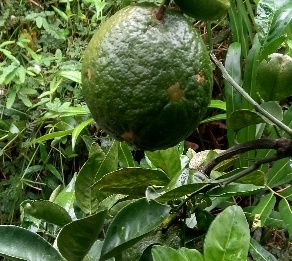Cam: (79, 6, 213, 152)
